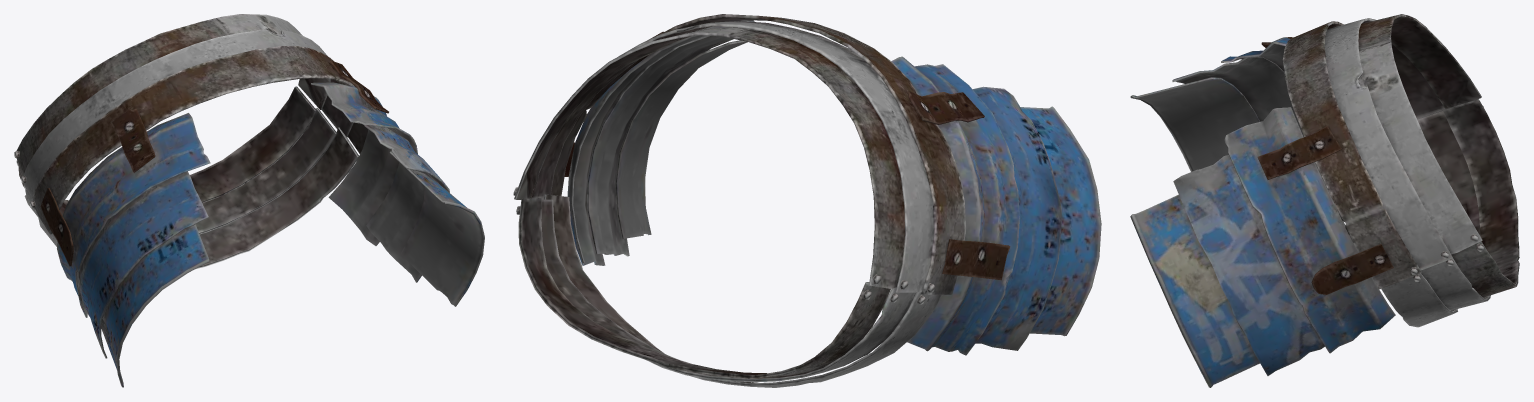
The model's file is pants.knightarmour_worldmodel.glb.
3 renders of one model, left to right at view 1: azimuth 30°, elevation 25°; view 2: azimuth 150°, elevation 25°; view 3: azimuth 270°, elevation 25°, orthographic. The views are drawn at different scales.
Parts seen in each view (by area): view 1: KnightArmourSkirt_worldmodel_LOD0; view 2: KnightArmourSkirt_worldmodel_LOD0; view 3: KnightArmourSkirt_worldmodel_LOD0.
Boxes of the visible parts, x1,y1,x2,y2 form: KnightArmourSkirt_worldmodel_LOD0: (14, 14, 484, 387); KnightArmourSkirt_worldmodel_LOD0: (513, 14, 1101, 387); KnightArmourSkirt_worldmodel_LOD0: (1130, 14, 1519, 387).
Bounding box in the file's own units: 0.4756 × 0.328 × 0.4286.
Materials: 1 (1 with a texture image).
